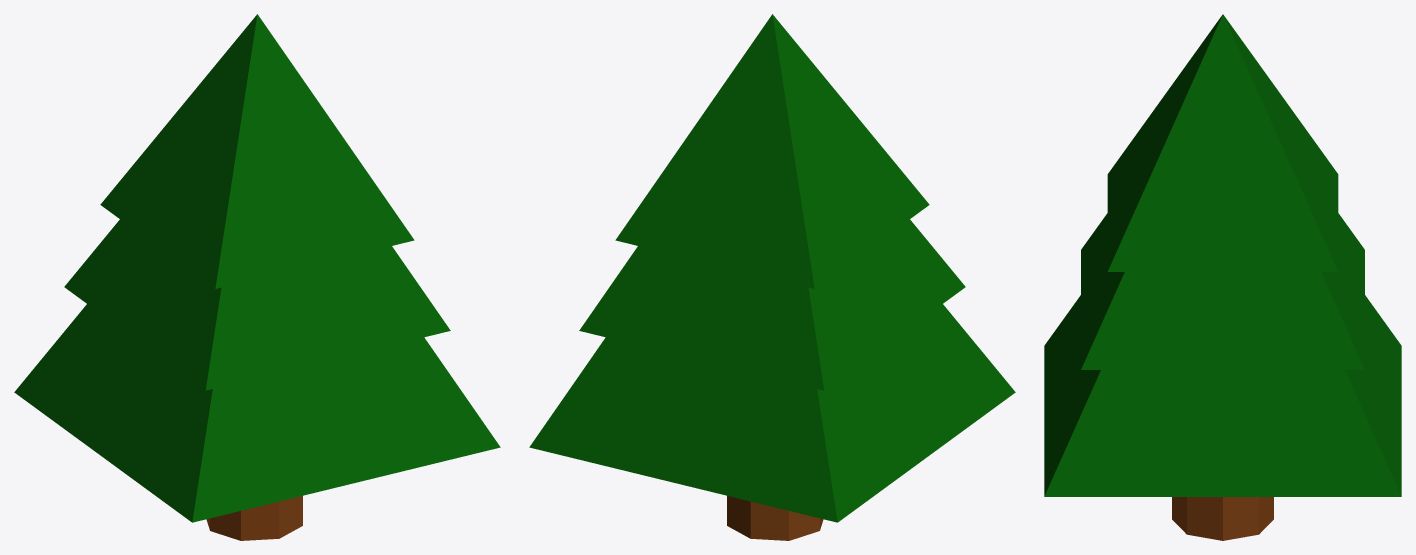
Rendered from arbol4.obj.
The picture shows the model from 3 angles, left to right: view 1: azimuth 30°, elevation 25°; view 2: azimuth 150°, elevation 25°; view 3: azimuth 270°, elevation 25°; orthographic projection.
Visible parts, largest first — view 1: Copa3, Tronco3; view 2: Copa3, Tronco3; view 3: Copa3, Tronco3.
Boxes of the visible parts, left/top/right/bottom form: Copa3: left=14, top=14, right=500, bottom=522; Tronco3: left=206, top=496, right=302, bottom=540; Copa3: left=529, top=14, right=1015, bottom=522; Tronco3: left=727, top=496, right=823, bottom=540; Copa3: left=1044, top=14, right=1401, bottom=496; Tronco3: left=1172, top=497, right=1273, bottom=540.
Bounding box in the file's own units: 4.28 × 6.71 × 4.28.
